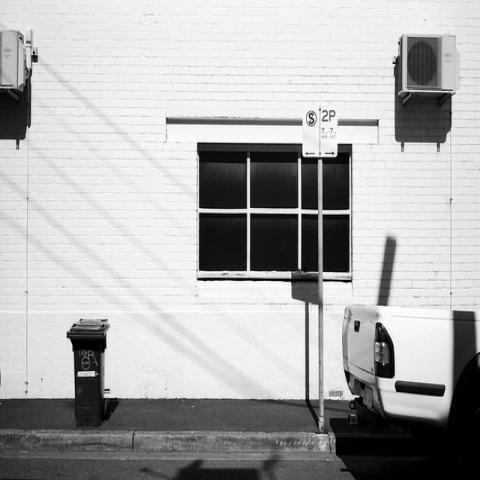truck: (338, 302, 480, 476)
